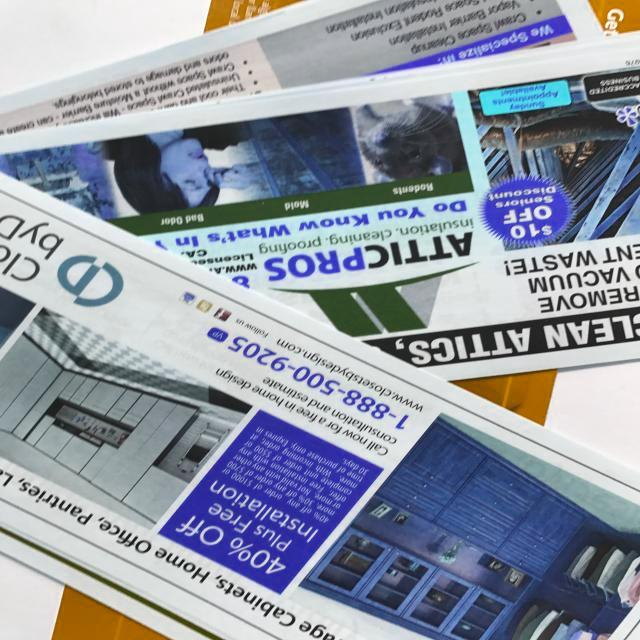paper: (7, 0, 640, 640)
